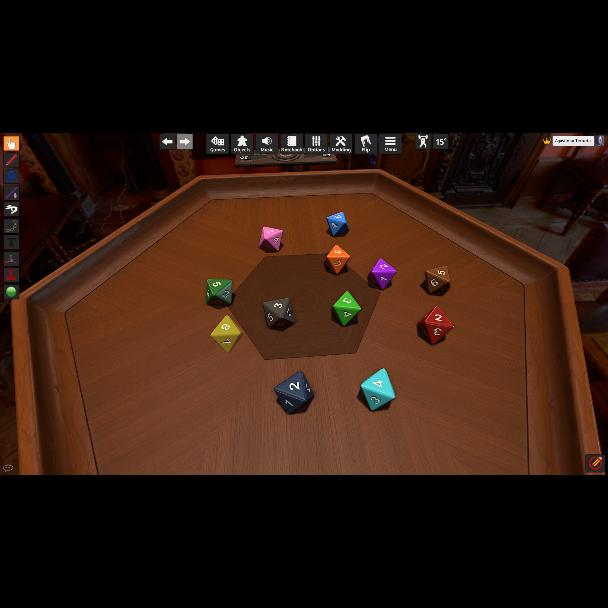d8: (274, 372, 314, 414), (418, 306, 452, 346), (360, 368, 392, 408), (210, 316, 242, 354), (263, 298, 295, 328), (332, 292, 360, 326), (368, 258, 395, 288), (325, 244, 351, 274), (206, 280, 232, 306), (425, 266, 449, 294), (259, 227, 283, 252), (326, 212, 348, 236)
